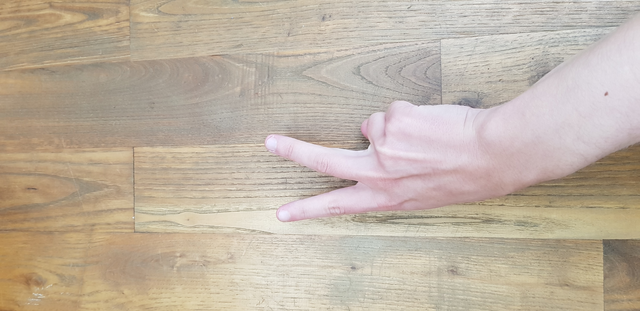Scissors: (236, 94, 528, 246)
